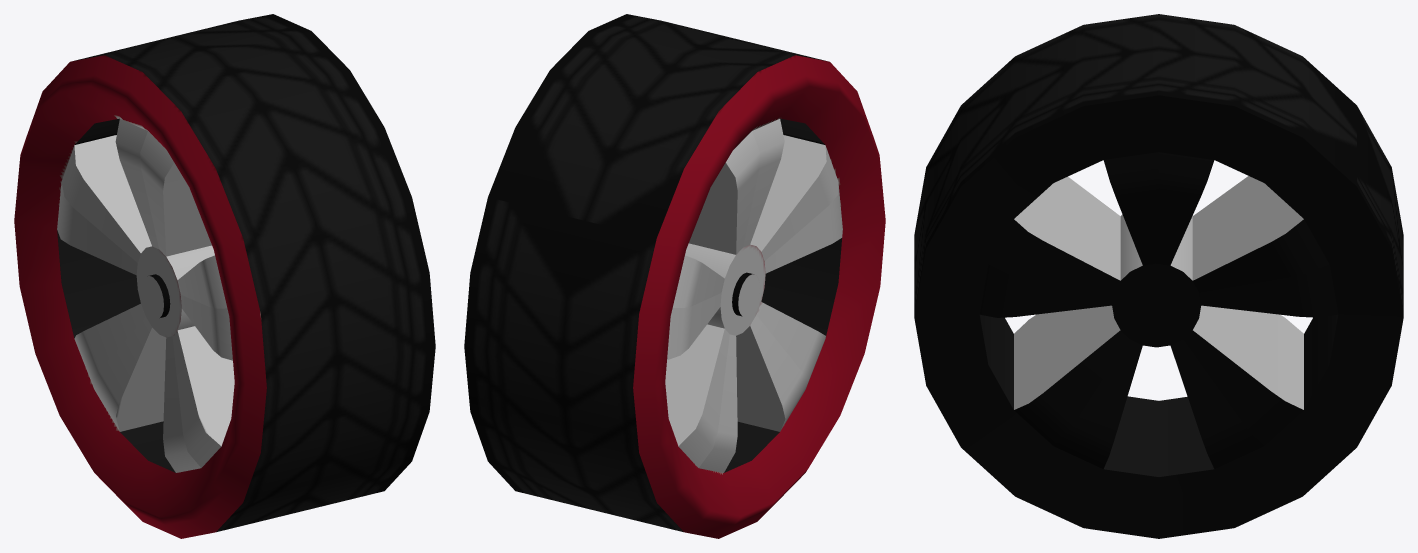
File: car_rightrearwheel.obj
The picture shows the model from 3 angles, left to right: view 1: azimuth 30°, elevation 25°; view 2: azimuth 150°, elevation 25°; view 3: azimuth 270°, elevation 25°; orthographic projection.
Parts seen in each view (by area): view 1: Rear_Right_Wheel; view 2: Rear_Right_Wheel; view 3: Rear_Right_Wheel.
Boxes of the visible parts, x1=… form: Rear_Right_Wheel: x1=14, y1=14, x2=435, y2=538; Rear_Right_Wheel: x1=464, y1=14, x2=885, y2=538; Rear_Right_Wheel: x1=914, y1=14, x2=1403, y2=538.
Bounding box in the file's own units: 0.5821 × 1.32 × 1.32.
Materials: 1 (1 with a texture image).
